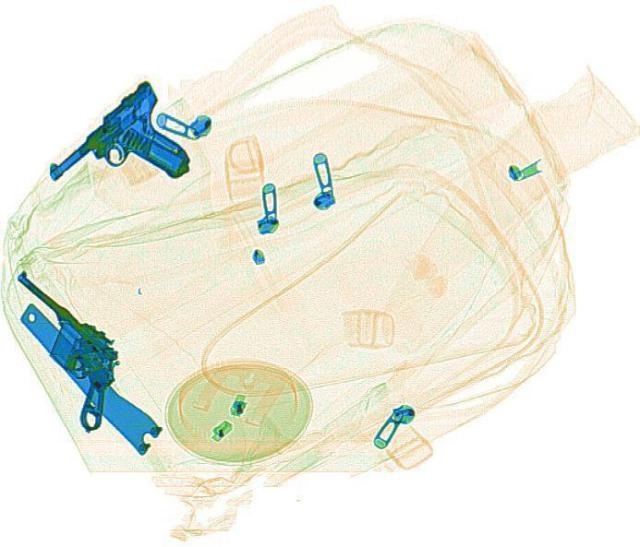Gun: (38, 76, 226, 225), (0, 297, 164, 425)
